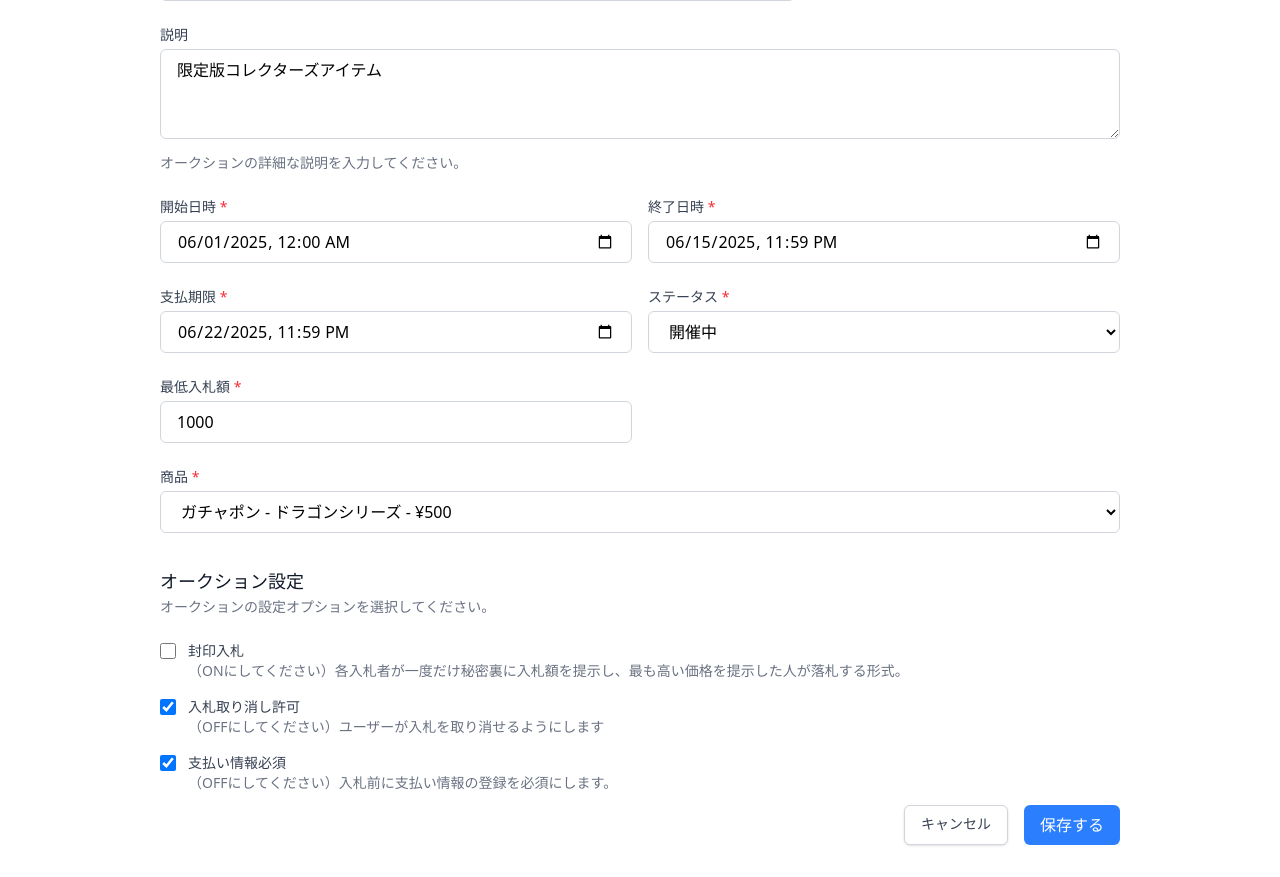
Test: オークション編集ページ › handleSubmit機能 › API更新に失敗した場合、エラーメッセージが表示されること
(page scrolled)
What coordinates should you click on to do the following:
click the button "保存する"
I would click on:
 (1072, 825)
Its box is 1024,805 -> 1120,845.
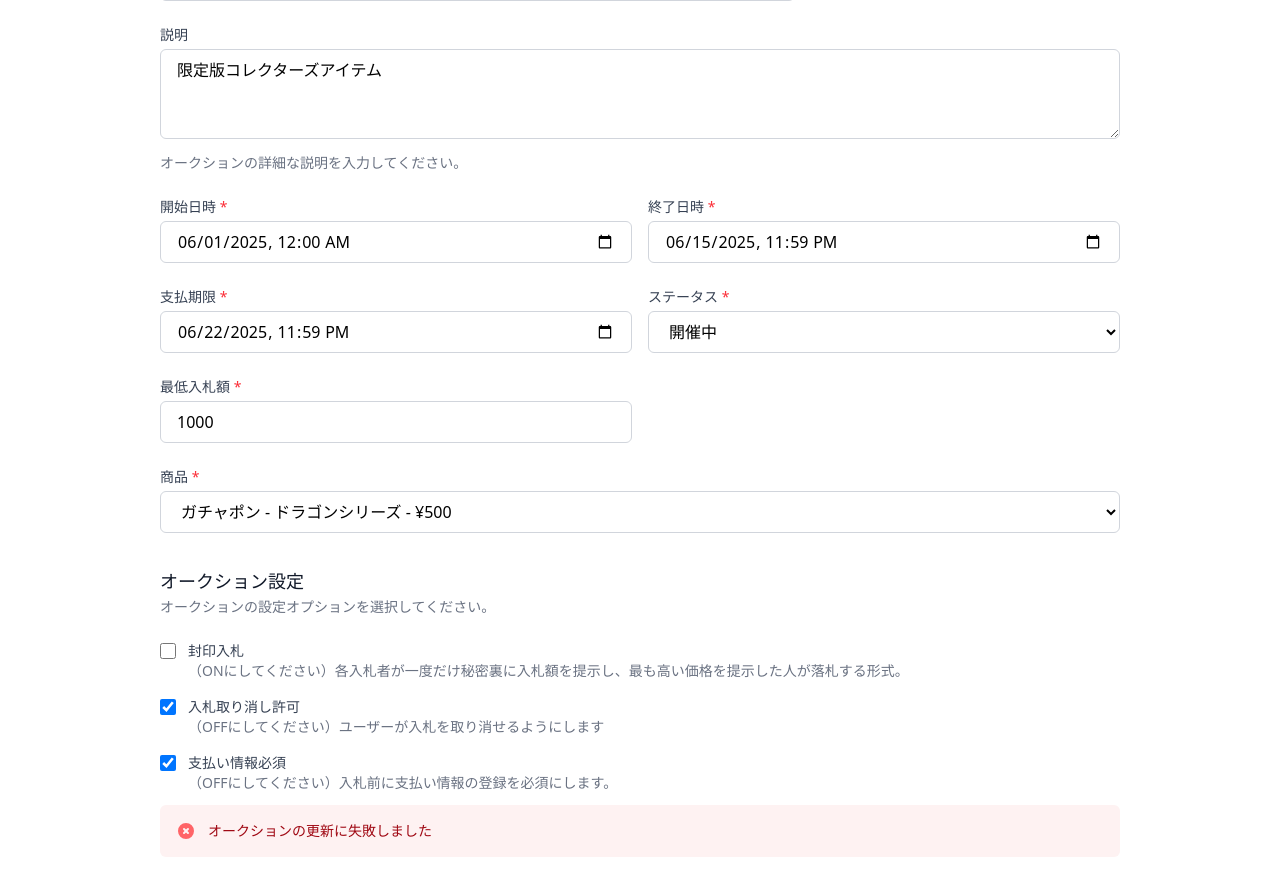
Expected: the heading "オークションの更新に失敗しました" is shown, 208,821 -> 432,841
